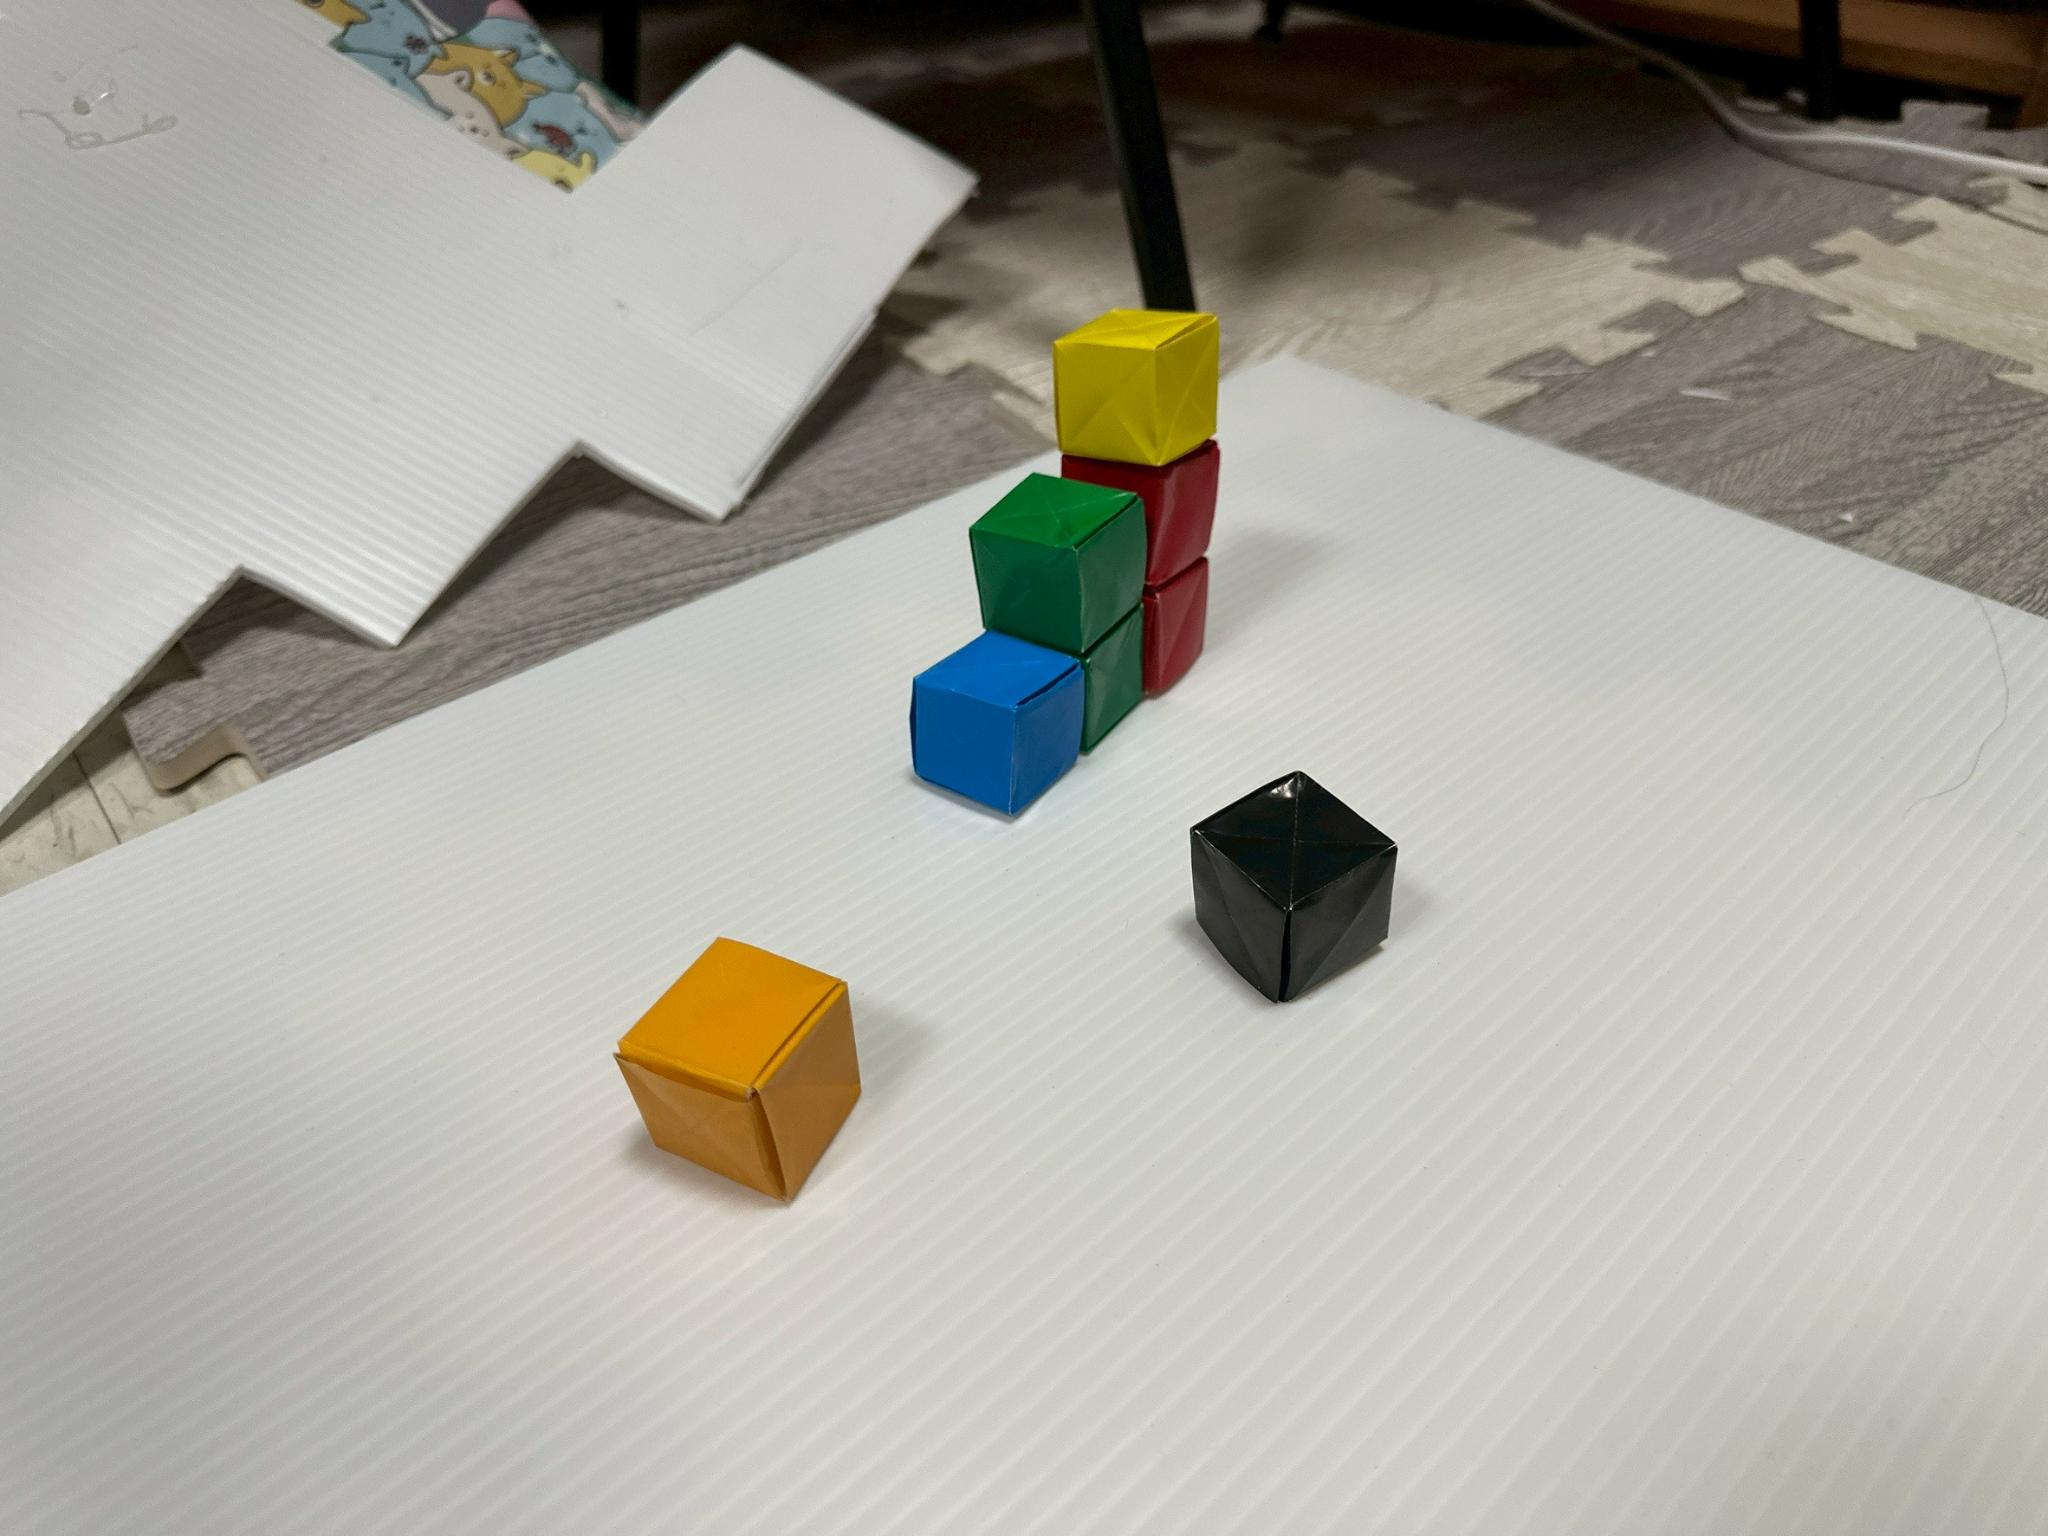cube: (616, 939, 860, 1202), (1190, 771, 1397, 1002), (969, 474, 1147, 657), (911, 632, 1084, 815), (1053, 310, 1219, 466), (1061, 439, 1219, 587), (1080, 599, 1143, 752), (1143, 558, 1206, 697)
